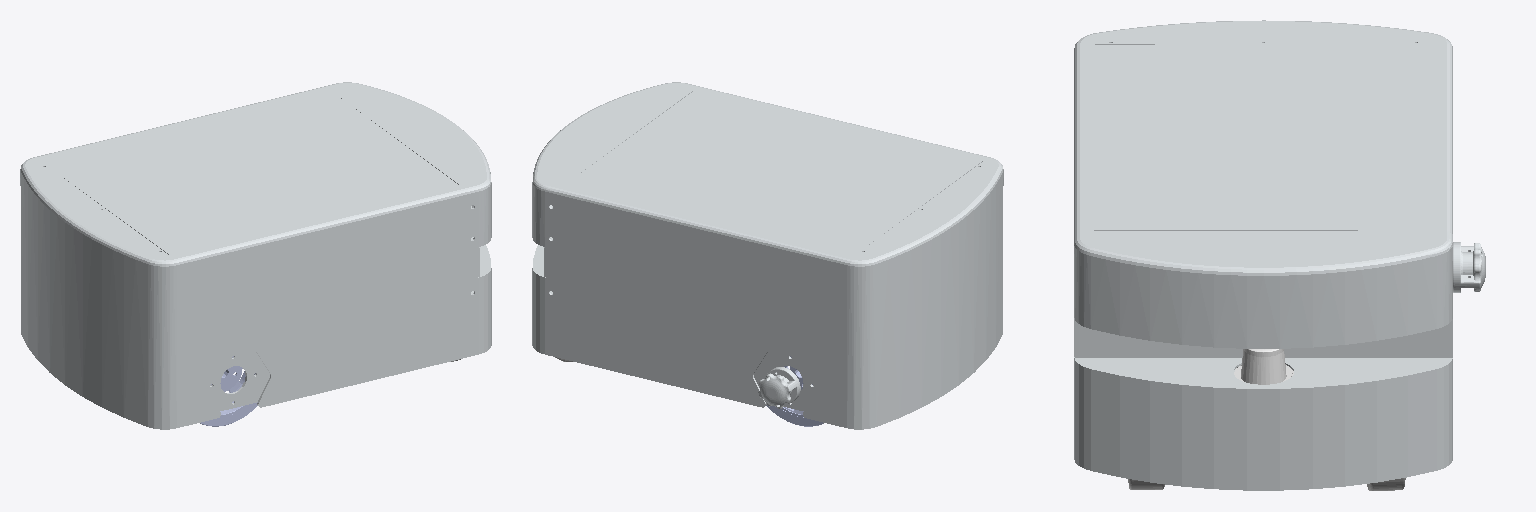
The robot description file, URDF, robot "turtlebot3_agv":
<?xml version="1.0" encoding="utf-8"?>
<!-- This URDF was automatically created by SolidWorks to URDF Exporter! Originally created by [author] ([email redacted]) 
     Commit Version: 1.6.0-1-g15f4949  Build Version: 1.6.7594.29634
     For more information, please see http://wiki.ros.org/sw_urdf_exporter -->
<robot
  name="turtlebot3_agv">
  <link
    name="base_link">
    <inertial>
      <origin
        xyz="0.142849000164505 0.000827450108183816 0.0940655414330139"
        rpy="0 0 0" />
      <mass
        value="6.53567405966969" />
      <inertia
        ixx="0.0709849720889641"
        ixy="1.92440674535796E-06"
        ixz="0.00855985818211809"
        iyy="0.0849332238903195"
        iyz="7.23923922623129E-09"
        izz="0.118915459813821" />
    </inertial>
    <visual>
      <origin
        xyz="0 0 0"
        rpy="0 0 0" />
      <geometry>
        <mesh
          filename="package://turtlebot3_agv/meshes/base_link.STL" />
      </geometry>
      <material
        name="">
        <color
          rgba="0.898039215686275 0.917647058823529 0.929411764705882 1" />
      </material>
    </visual>
    <collision>
      <origin
        xyz="0 0 0"
        rpy="0 0 0" />
      <geometry>
        <mesh
          filename="package://turtlebot3_agv/meshes/base_link.STL" />
      </geometry>
    </collision>
  </link>
  <link
    name="Wheel_right_link">
    <inertial>
      <origin
        xyz="1.42869155533853E-07 5.01976036182839E-08 0.0126479412682328"
        rpy="0 0 0" />
      <mass
        value="0.314315912620171" />
      <inertia
        ixx="0.000639654627112855"
        ixy="9.76337195626606E-11"
        ixz="3.37642907706249E-10"
        iyy="0.000639653948478055"
        iyz="1.18632076877269E-10"
        izz="0.00119596472094067" />
    </inertial>
    <visual>
      <origin
        xyz="0 0 0"
        rpy="0 0 0" />
      <geometry>
        <mesh
          filename="package://turtlebot3_agv/meshes/Wheel_right_link.STL" />
      </geometry>
      <material
        name="">
        <color
          rgba="0.796078431372549 0.823529411764706 0.937254901960784 1" />
      </material>
    </visual>
    <collision>
      <origin
        xyz="0 0 0"
        rpy="0 0 0" />
      <geometry>
        <mesh
          filename="package://turtlebot3_agv/meshes/Wheel_right_link.STL" />
      </geometry>
    </collision>
  </link>
  <joint
    name="Wheel_right_joint"
    type="continuous">
    <origin
      xyz="0 -0.144850779034482 0"
      rpy="-1.5707963267949 0 0" />
    <parent
      link="base_link" />
    <child
      link="Wheel_right_link" />
    <axis
      xyz="0 0 -1" />
  </joint>
  <link
    name="Wheel_left_link">
    <inertial>
      <origin
        xyz="1.48512857914285E-07 -2.95859081029821E-08 -0.0126479412682294"
        rpy="0 0 0" />
      <mass
        value="0.314315912620173" />
      <inertia
        ixx="0.00063965464087898"
        ixy="8.1661077047697E-13"
        ixz="-3.50980676451552E-10"
        iyy="0.000639653934711934"
        iyz="6.99204260424775E-11"
        izz="0.00119596472094068" />
    </inertial>
    <visual>
      <origin
        xyz="0 0 0"
        rpy="0 0 0" />
      <geometry>
        <mesh
          filename="package://turtlebot3_agv/meshes/Wheel_left_link.STL" />
      </geometry>
      <material
        name="">
        <color
          rgba="0.796078431372549 0.823529411764706 0.937254901960784 1" />
      </material>
    </visual>
    <collision>
      <origin
        xyz="0 0 0"
        rpy="0 0 0" />
      <geometry>
        <mesh
          filename="package://turtlebot3_agv/meshes/Wheel_left_link.STL" />
      </geometry>
    </collision>
  </link>
  <joint
    name="Wheel_left_joint"
    type="continuous">
    <origin
      xyz="0 0.144850779034479 0"
      rpy="-1.5707963267949 0 0" />
    <parent
      link="base_link" />
    <child
      link="Wheel_left_link" />
    <axis
      xyz="0 0 -1" />
  </joint>
  <link
    name="Wheel_small_1_link">
    <inertial>
      <origin
        xyz="0.0238758097582441 0.046525963467403 0.00243393414299073"
        rpy="0 0 0" />
      <mass
        value="0.167454819249336" />
      <inertia
        ixx="6.25892274953707E-05"
        ixy="-3.12319582844251E-06"
        ixz="-1.67934202325051E-06"
        iyy="7.61138201175506E-05"
        iyz="-3.23742840709858E-07"
        izz="8.40945355639417E-05" />
    </inertial>
    <visual>
      <origin
        xyz="0 0 0"
        rpy="0 0 0" />
      <geometry>
        <mesh
          filename="package://turtlebot3_agv/meshes/Wheel_small_1_link.STL" />
      </geometry>
      <material
        name="">
        <color
          rgba="0.752941176470588 0.752941176470588 0.752941176470588 1" />
      </material>
    </visual>
    <collision>
      <origin
        xyz="0 0 0"
        rpy="0 0 0" />
      <geometry>
        <mesh
          filename="package://turtlebot3_agv/meshes/Wheel_small_1_link.STL" />
      </geometry>
    </collision>
  </link>
  <joint
    name="Wheel_small_1_joint"
    type="fixed">
    <origin
      xyz="0.324561380831399 0.1153 0.022292142743223"
      rpy="-1.5707963267949 0 0" />
    <parent
      link="base_link" />
    <child
      link="Wheel_small_1_link" />
    <axis
      xyz="0 0 0" />
  </joint>
  <link
    name="Wheel_small_2_link">
    <inertial>
      <origin
        xyz="0.0239966492860011 0.0465259605815261 0.000372265052759346"
        rpy="0 0 0" />
      <mass
        value="0.1674548677509" />
      <inertia
        ixx="6.24198356690566E-05"
        ixy="-3.13946500757385E-06"
        ixz="-2.83748175989573E-07"
        iyy="7.61138228251399E-05"
        iyz="-5.40336824978955E-08"
        izz="8.42639415171442E-05" />
    </inertial>
    <visual>
      <origin
        xyz="0 0 0"
        rpy="0 0 0" />
      <geometry>
        <mesh
          filename="package://turtlebot3_agv/meshes/Wheel_small_2_link.STL" />
      </geometry>
      <material
        name="">
        <color
          rgba="0.752941176470588 0.752941176470588 0.752941176470588 1" />
      </material>
    </visual>
    <collision>
      <origin
        xyz="0 0 0"
        rpy="0 0 0" />
      <geometry>
        <mesh
          filename="package://turtlebot3_agv/meshes/Wheel_small_2_link.STL" />
      </geometry>
    </collision>
  </link>
  <joint
    name="Wheel_small_2_joint"
    type="fixed">
    <origin
      xyz="0.322061380831399 -0.115299999999999 0.0222921427432125"
      rpy="-1.5707963267949 0 0" />
    <parent
      link="base_link" />
    <child
      link="Wheel_small_2_link" />
    <axis
      xyz="0 0 0" />
  </joint>
  <link
    name="Base_scan">
    <inertial>
      <origin
        xyz="-0.00178136774153781 0.000215628651223029 -0.0233629715090974"
        rpy="0 0 0" />
      <mass
        value="0.17985830348468" />
      <inertia
        ixx="6.36064511774619E-05"
        ixy="-3.40912419722572E-07"
        ixz="1.80430676368712E-06"
        iyy="6.04319702079155E-05"
        iyz="-1.84572810482903E-07"
        izz="8.20591002857804E-05" />
    </inertial>
    <visual>
      <origin
        xyz="0 0 0"
        rpy="0 0 0" />
      <geometry>
        <mesh
          filename="package://turtlebot3_agv/meshes/Base_scan.STL" />
      </geometry>
      <material
        name="">
        <color
          rgba="0.949019607843137 0.949019607843137 0.949019607843137 1" />
      </material>
    </visual>
    <collision>
      <origin
        xyz="0 0 0"
        rpy="0 0 0" />
      <geometry>
        <mesh
          filename="package://turtlebot3_agv/meshes/Base_scan.STL" />
      </geometry>
    </collision>
  </link>
  <joint
    name="Scan_joint"
    type="fixed">
    <origin
      xyz="0.392242528010143 -0.000156533163617606 0.0793945220729009"
      rpy="0 0 -0.00302113884462652" />
    <parent
      link="base_link" />
    <child
      link="Base_scan" />
    <axis
      xyz="0 0 0" />
  </joint>
</robot>

--- What the picture shows (computed from the rendered views, not written in the file) ---
Views: 3 orthographic renders of the robot side by side, from view 1: azimuth 30°, elevation 25°; view 2: azimuth 150°, elevation 25°; view 3: azimuth 270°, elevation 25°.
Robot: turtlebot3_agv — 6 links, 5 joints (2 continuous, 3 fixed); root link base_link; default pose: all joints at 0.
Visible links, largest first — view 1: base_link, Wheel_right_link; view 2: base_link, Wheel_left_link; view 3: base_link, Base_scan.
Boxes of the visible links, bbox=[...] form: base_link: bbox=[20, 82, 491, 429]; Wheel_right_link: bbox=[200, 356, 257, 426]; base_link: bbox=[532, 82, 1003, 429]; Wheel_left_link: bbox=[766, 356, 823, 426]; base_link: bbox=[1074, 20, 1485, 490]; Base_scan: bbox=[1234, 349, 1293, 384].
Size in the robot's own frame: 0.5833 by 0.4029 by 0.27 metres.
6 mesh visuals loaded from 6 distinct referenced files (6 binary STL).